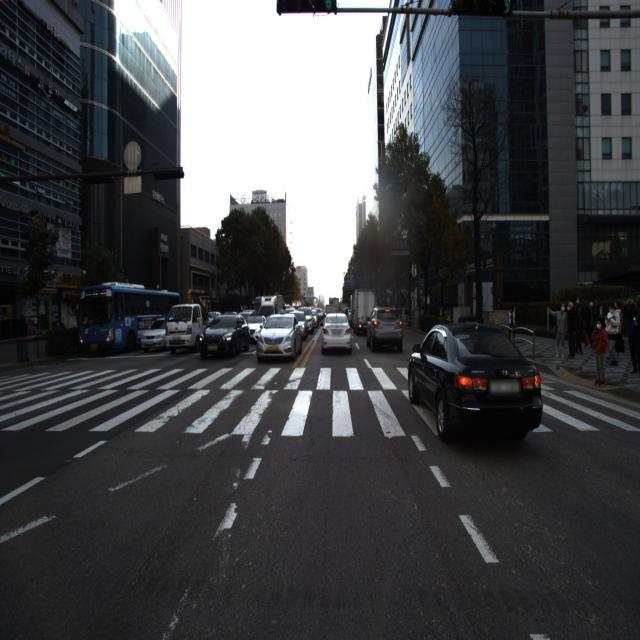crosswalk: (1, 364, 640, 437)
